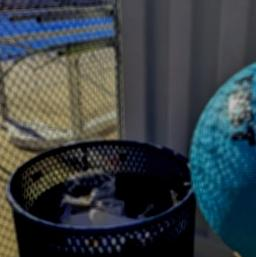algae: (185, 43, 256, 257)
